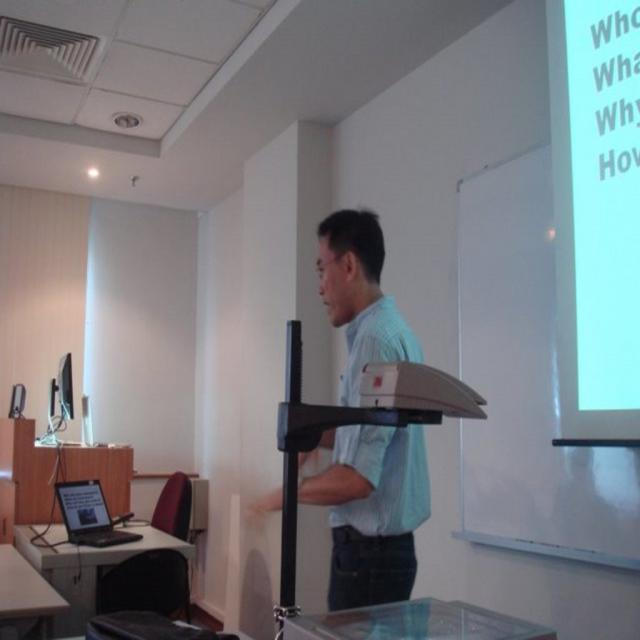chair: (149, 472, 193, 542)
desk: (16, 478, 188, 627)
laptop: (54, 478, 142, 550)
person: (298, 207, 430, 615)
tv: (58, 352, 74, 422)
